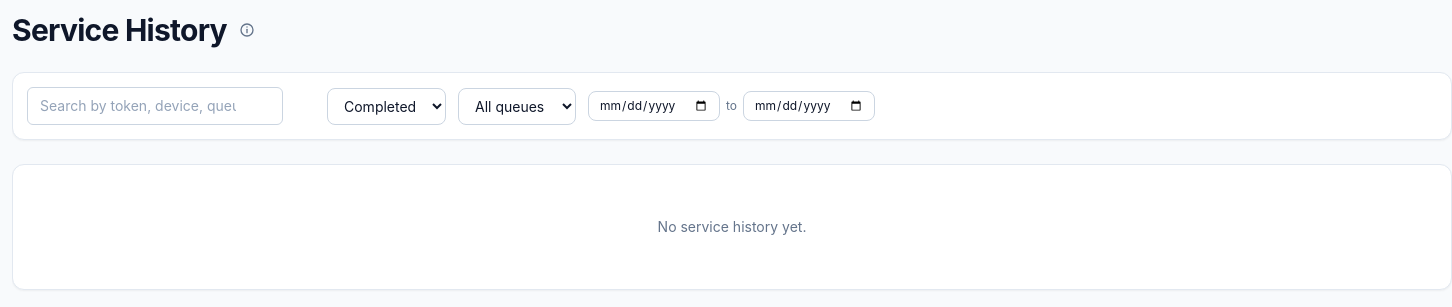
Test: ServiceHistoryPage › distinguishes an empty history from an empty filtered result
The width and height of the screenshot is (1452, 307).
Expected: the text "No service history yet." is shown, [658, 218, 806, 235]
Select "Front Desk" in the dropdown named "Queue" at (517, 106), box [458, 88, 576, 124]
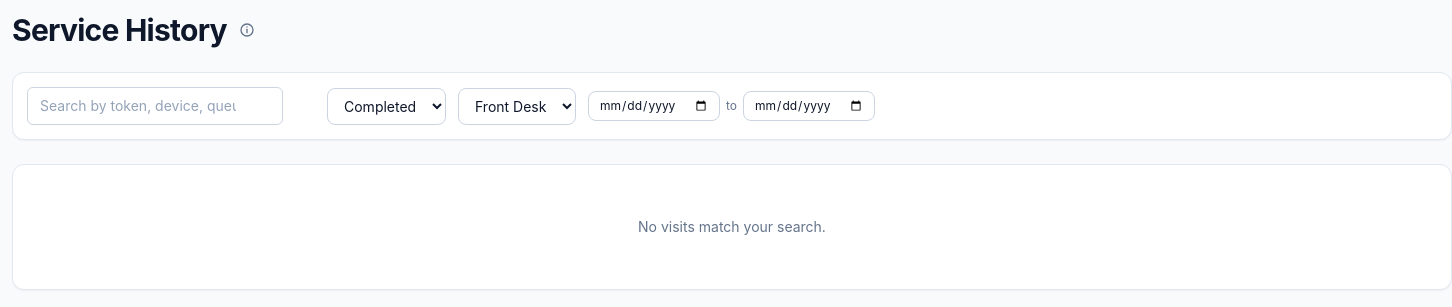
Expected: the text "No visits match your search." is shown, [638, 218, 826, 235]
